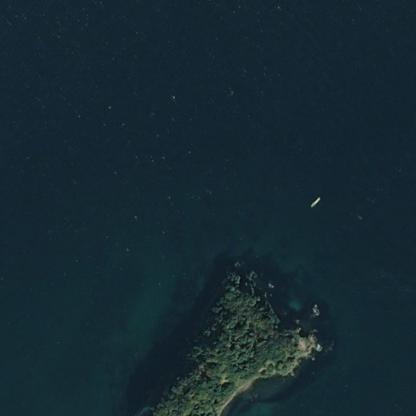ship: (310, 28, 320, 39)
